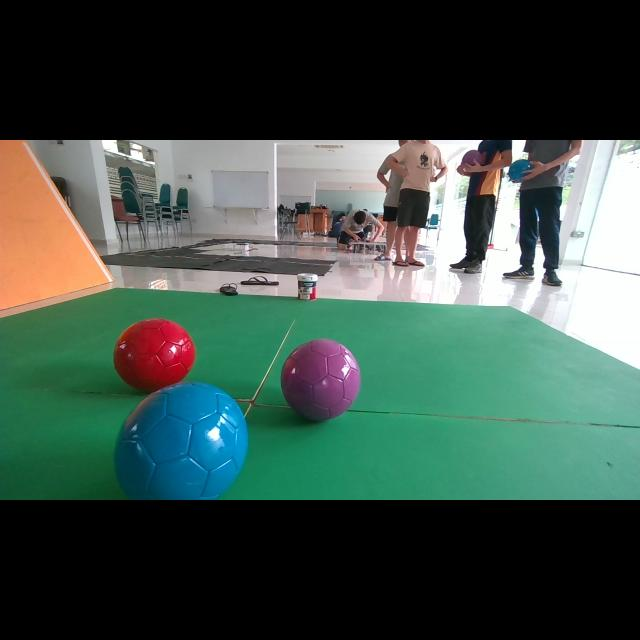B: (115, 381, 248, 499)
P: (281, 339, 360, 421)
R: (114, 318, 196, 392)
